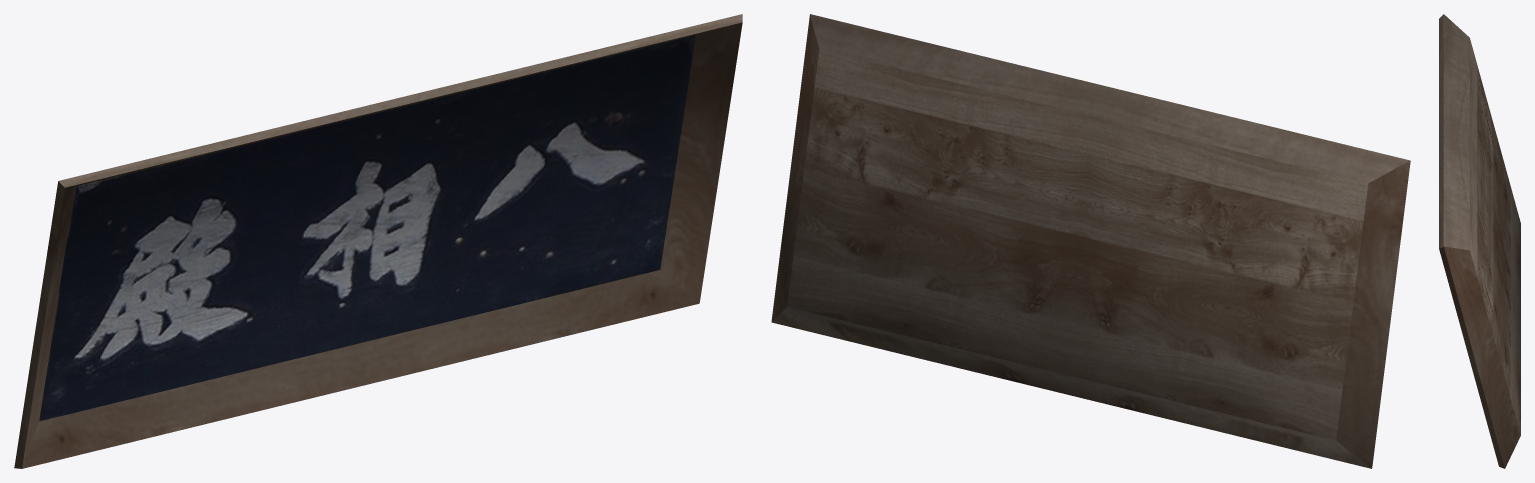
Rendered from SM_Sun_Pal_sign.fbx.
3 renders of one model, left to right at view 1: azimuth 30°, elevation 25°; view 2: azimuth 150°, elevation 25°; view 3: azimuth 270°, elevation 25°, orthographic. The views are drawn at different scales.
Parts seen in each view (by area): view 1: SM_Sun_Pal_sign; view 2: SM_Sun_Pal_sign; view 3: SM_Sun_Pal_sign.
Part boxes in pixels (box(x1,y1,x2,y2)): SM_Sun_Pal_sign: box(14, 14, 742, 468); SM_Sun_Pal_sign: box(771, 14, 1410, 468); SM_Sun_Pal_sign: box(1439, 14, 1520, 468).
Bounding box in the file's own units: 90.32 × 40.28 × 13.42.
